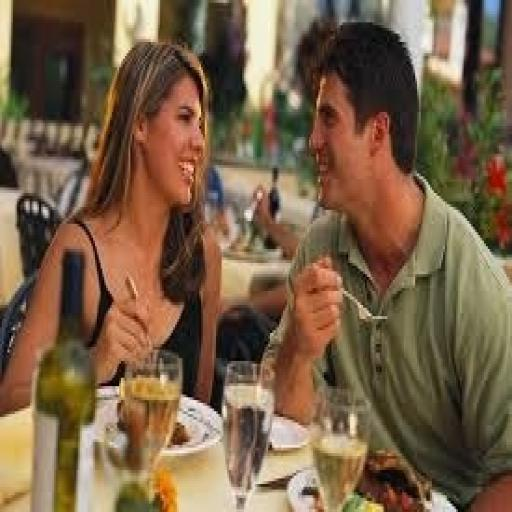eating: (4, 17, 508, 506)
